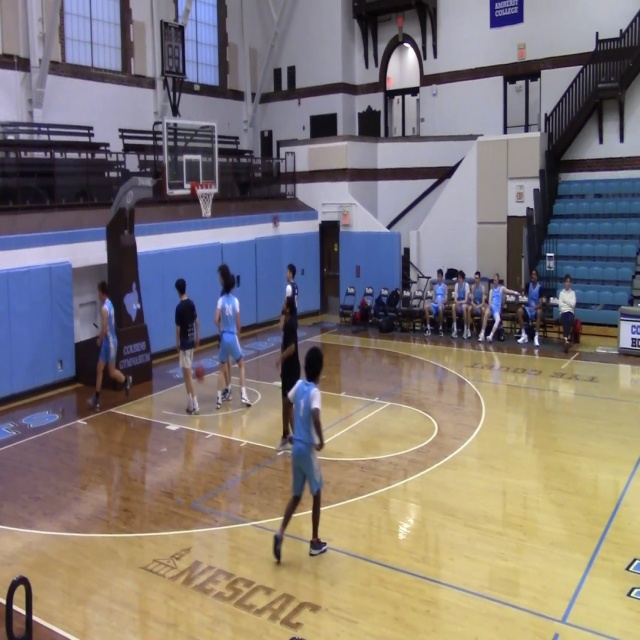Basketball: (194, 366, 204, 379), (430, 303, 439, 315), (286, 284, 292, 297)
